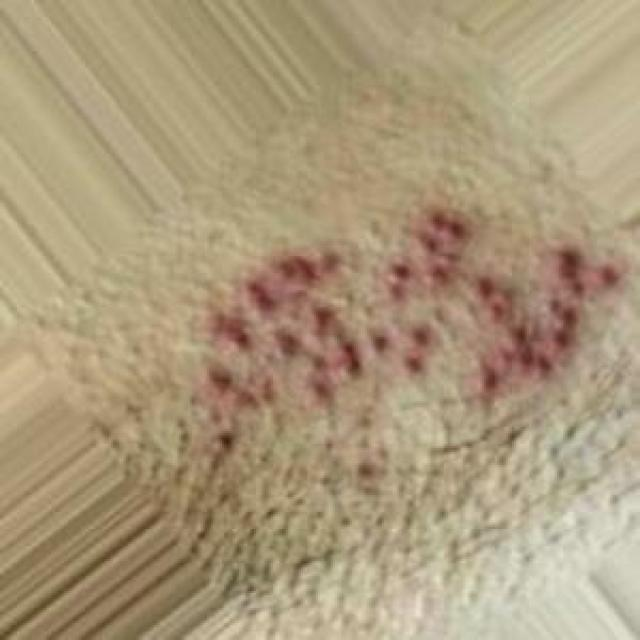Shingles: (200, 208, 621, 412)
